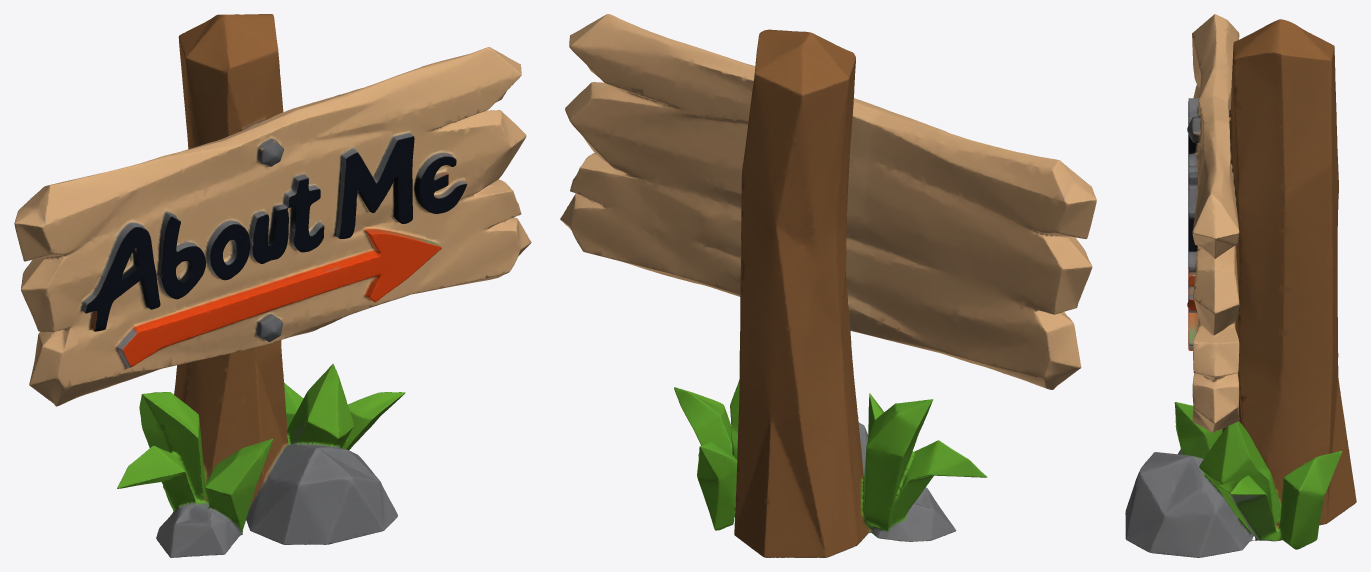
Rendered from sign.glb.
3 renders of one model, left to right at view 1: azimuth 30°, elevation 25°; view 2: azimuth 150°, elevation 25°; view 3: azimuth 270°, elevation 25°, orthographic. The views are drawn at different scales.
Bounding box in the file's own units: 1.9 × 1.73 × 0.7334.
1 material, 1 textured.
